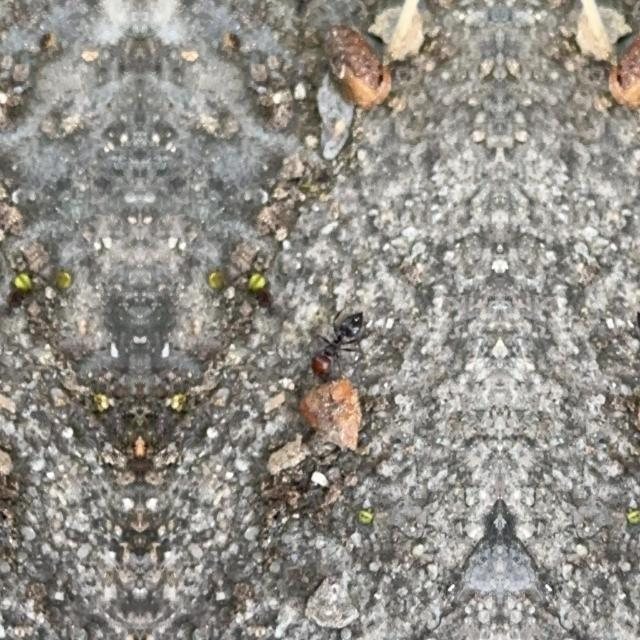Crematogaster: (304, 298, 368, 380)
